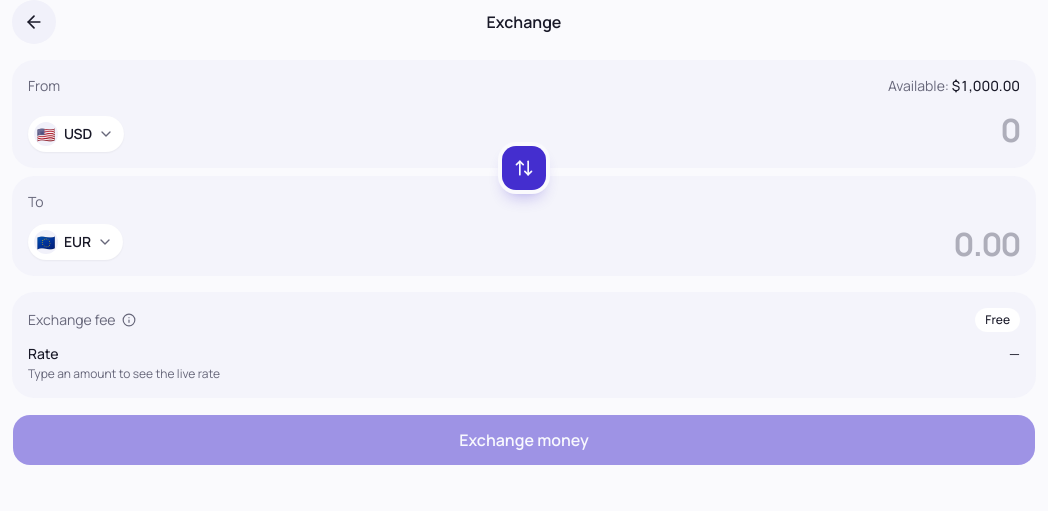
Test case: ExchangeScreen › refuses more than the wallet holds
In the field with placeholder "0": {"x": 578, "y": 130} [136,108,1020,152], type "2000"
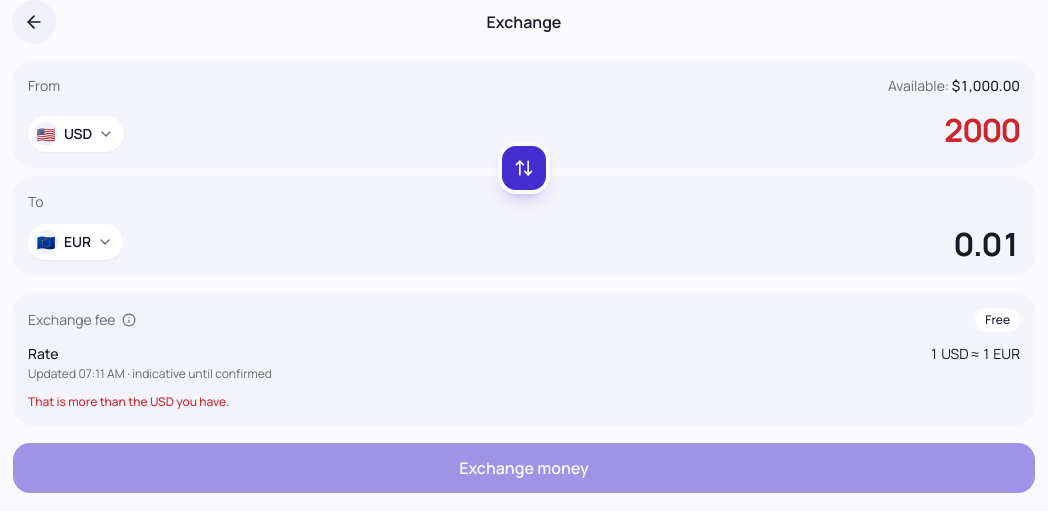
Expected: the button "Exchange money" is disabled, [12,442,1036,494]
Now the text "That is more than the USD you have." is shown, box [28,393,229,410]
